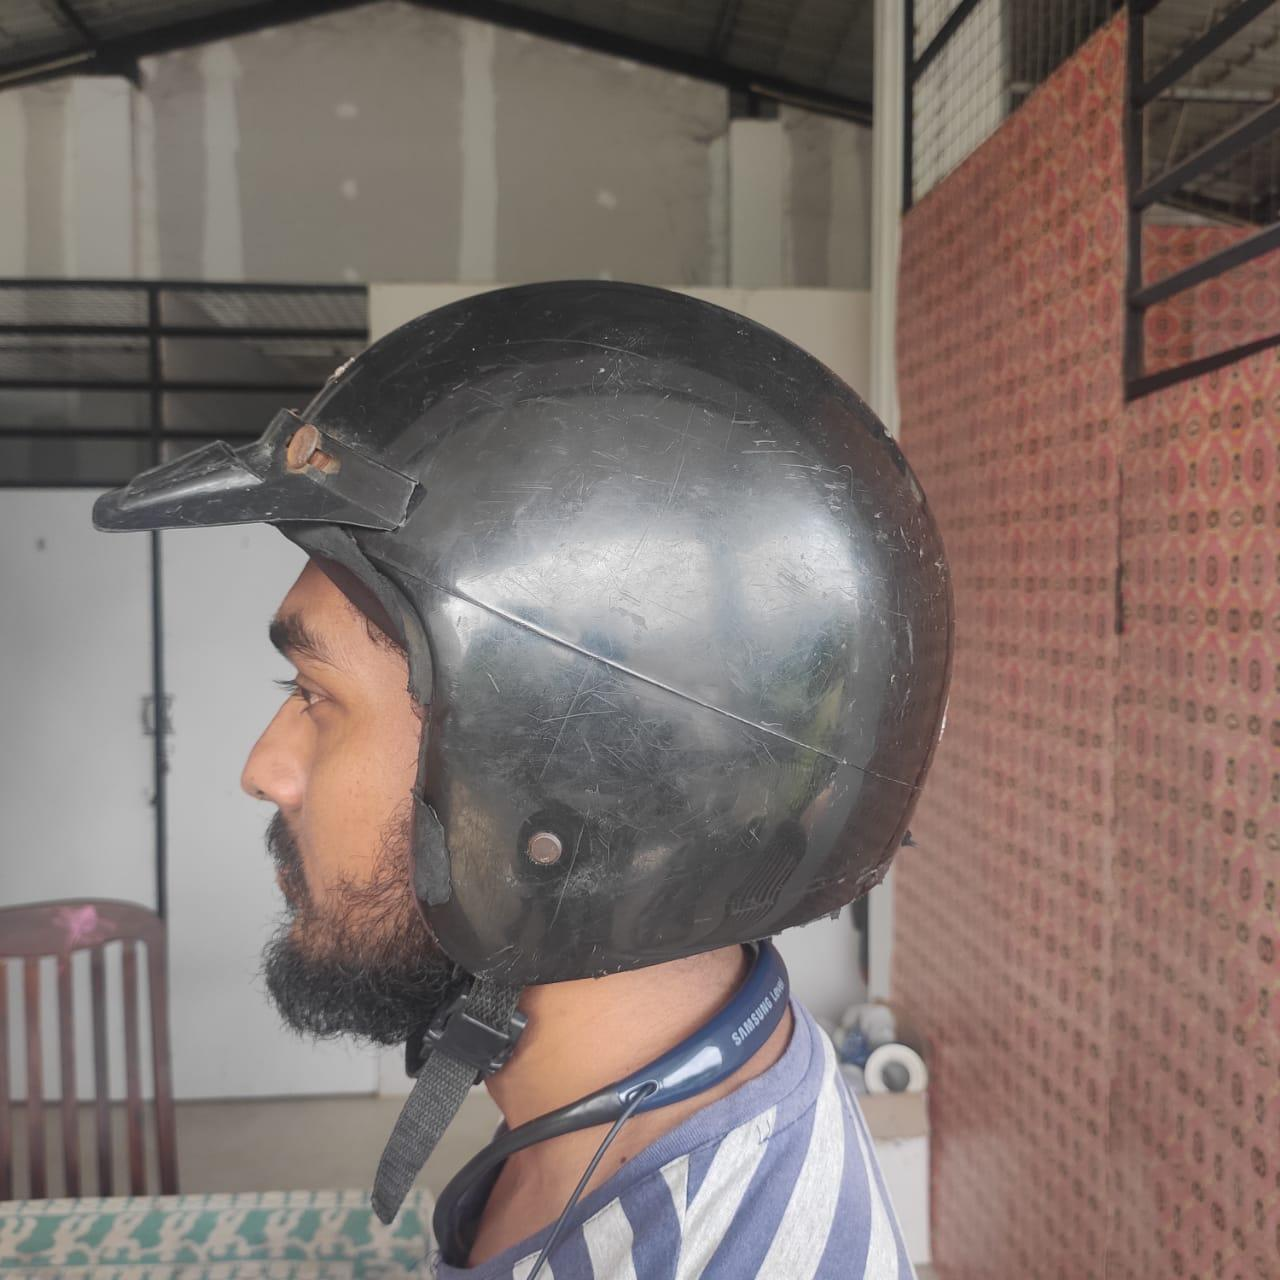helmet: (91, 275, 958, 986)
